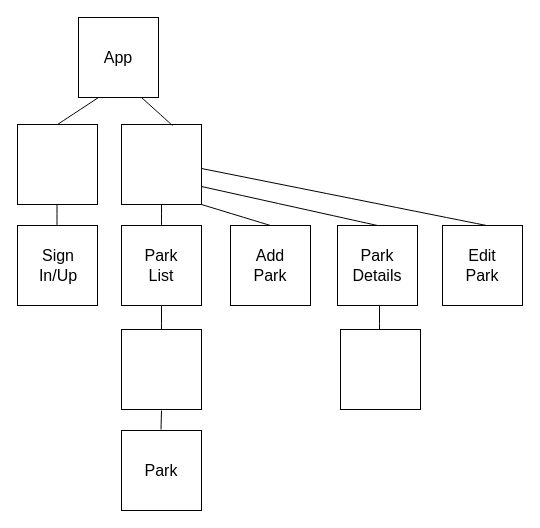
This 540x528 diagram has some shape labels left out. The centre of each missing label's shape, as x and y in pixels:
"Delete Park" belongs at (x=380, y=369).
"Filter Parks" belongs at (x=161, y=369).
"Header" belongs at (x=57, y=164).
"Park Control" belongs at (x=161, y=164).
